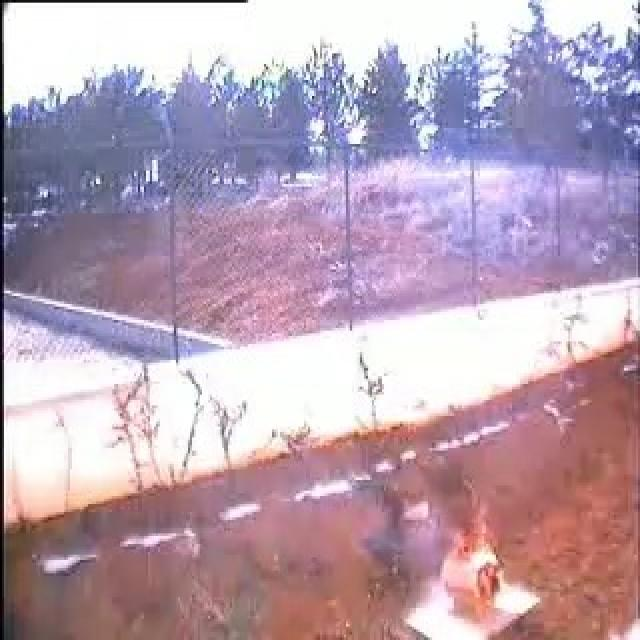fire: (456, 527, 501, 603)
smoke: (417, 510, 457, 576)
